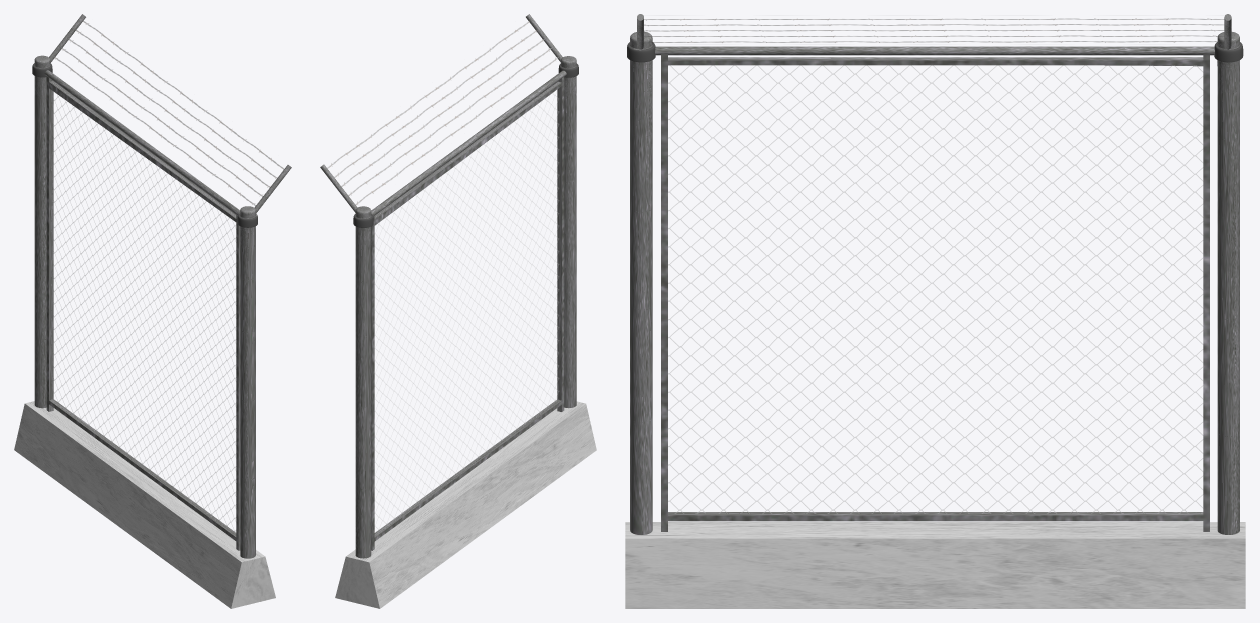
The model's file is pubg_barrier_change_colour.glb.
3 views of the same model, side by side, from view 1: azimuth 30°, elevation 25°; view 2: azimuth 150°, elevation 25°; view 3: azimuth 270°, elevation 25° (orthographic). The views are drawn at different scales.
Parts seen in each view (by area): view 1: pCube1, pCube3, pCube2, pCylinder1, pCylinder4, pCube4, pCylinder3; view 2: pCube1, pCube3, pCube2, pCylinder4, pCylinder1, pCube4, pCylinder3; view 3: pCube1, pCube2, pCube3, pCylinder4, pCylinder1, pCylinder3, pCube4.
Boxes of the visible parts, <box> form: pCube1: <box>14,401,275,608</box>; pCube3: <box>46,76,240,550</box>; pCube2: <box>52,96,235,532</box>; pCylinder1: <box>237,206,257,558</box>; pCylinder4: <box>32,55,52,408</box>; pCube4: <box>54,20,283,205</box>; pCylinder3: <box>44,70,240,215</box>; pCube1: <box>335,401,596,608</box>; pCube3: <box>371,77,564,550</box>; pCube2: <box>375,93,558,530</box>; pCylinder4: <box>353,206,373,558</box>; pCylinder1: <box>558,56,578,408</box>; pCube4: <box>327,20,558,204</box>; pCylinder3: <box>371,70,566,215</box>; pCube1: <box>625,522,1245,608</box>; pCube2: <box>668,65,1202,513</box>; pCube3: <box>661,54,1209,531</box>; pCylinder4: <box>1214,32,1243,534</box>; pCylinder1: <box>627,31,655,534</box>; pCylinder3: <box>655,46,1214,55</box>; pCube4: <box>644,18,1223,42</box>.
Size of the model in its own units: 4.49 by 27.75 by 25.69.
5 materials, 4 textured.
